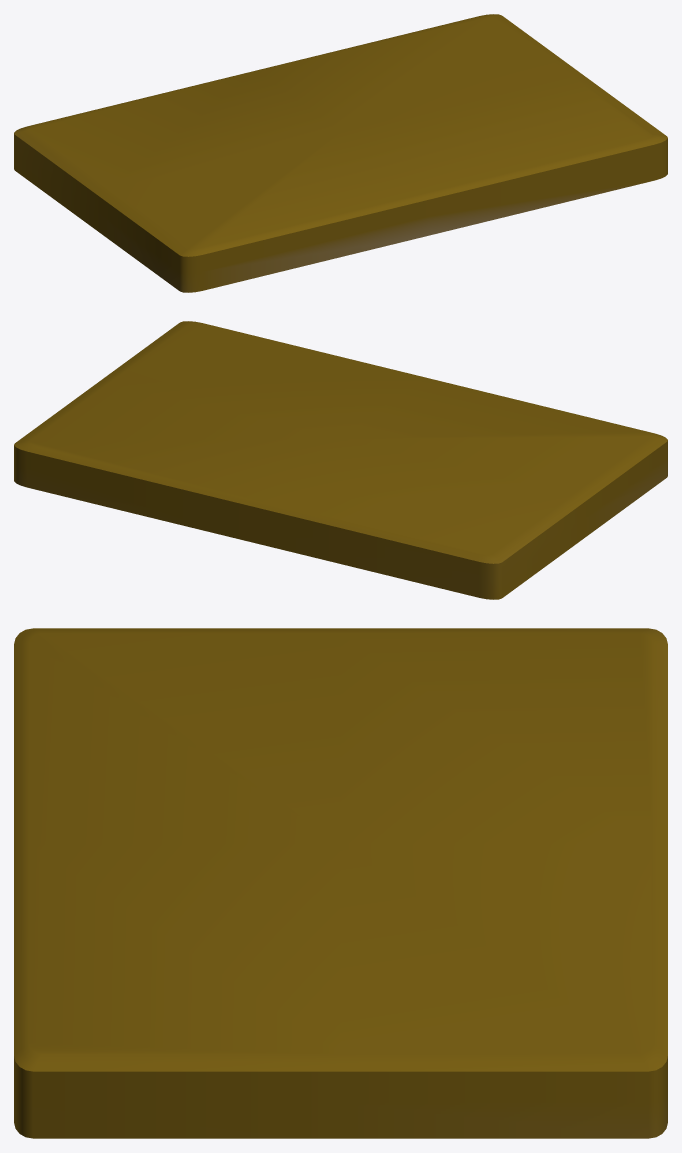
The model's file is Brunch-Butter-Wood.fbx.
The picture shows the model from 3 angles, top to bottom: view 1: azimuth 30°, elevation 25°; view 2: azimuth 150°, elevation 25°; view 3: azimuth 270°, elevation 25°; orthographic projection. The views are drawn at different scales.
Visible parts, largest first — view 1: Brunch-Butter-Wood; view 2: Brunch-Butter-Wood; view 3: Brunch-Butter-Wood.
Part boxes in pixels (box(x1,y1,x2,y2)): Brunch-Butter-Wood: box(14, 14, 667, 292); Brunch-Butter-Wood: box(14, 321, 667, 599); Brunch-Butter-Wood: box(14, 628, 667, 1138).
Bounding box in the file's own units: 1595 × 123 × 995.
